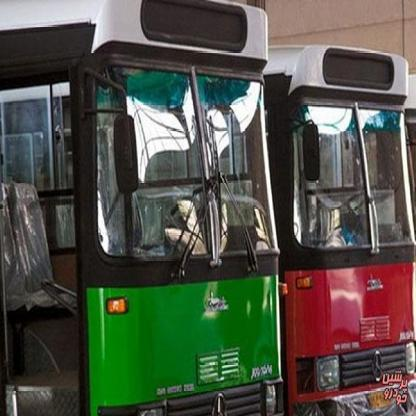Bus: (0, 0, 291, 416), (259, 44, 415, 416)
